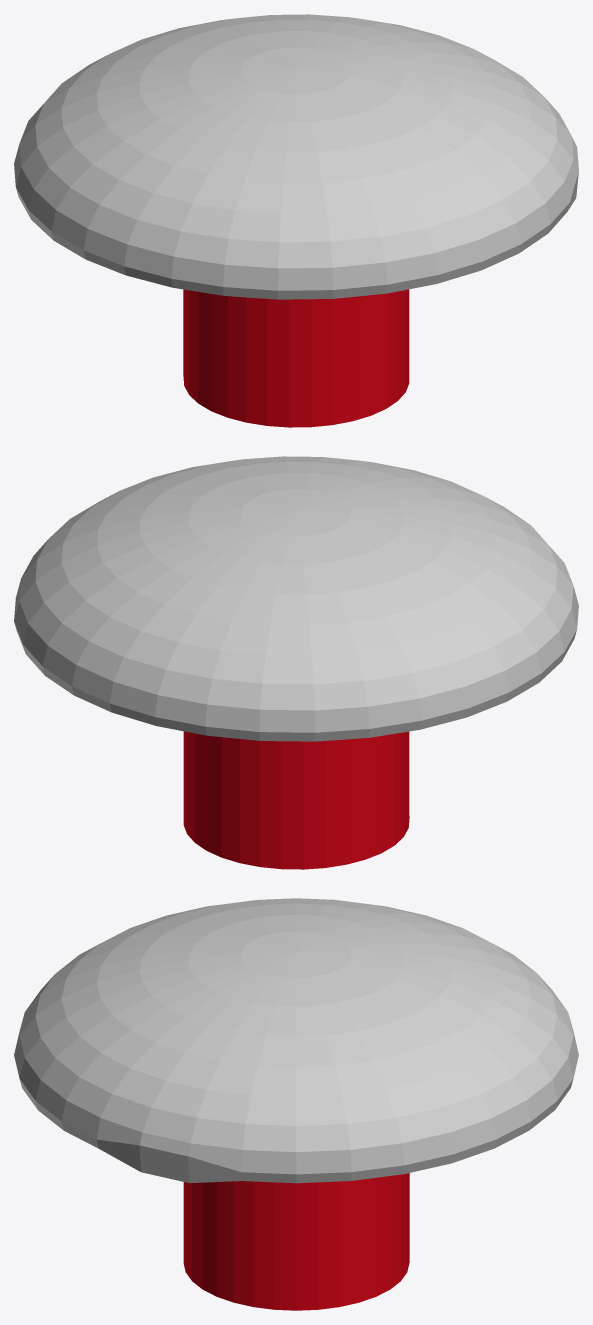
File: Button.fbx
3 views of the same model, one above another, from view 1: azimuth 30°, elevation 25°; view 2: azimuth 150°, elevation 25°; view 3: azimuth 270°, elevation 25° (orthographic).
Parts seen in each view (by area): view 1: Sphere, Cylinder; view 2: Sphere, Cylinder; view 3: Sphere, Cylinder.
Part boxes in pixels (box(x1,y1,x2,y2)): Sphere: box(14, 14, 578, 299); Cylinder: box(183, 289, 409, 427); Sphere: box(14, 456, 578, 741); Cylinder: box(183, 731, 409, 869); Sphere: box(14, 898, 578, 1183); Cylinder: box(183, 1173, 409, 1310).
Size of the model in its own units: 500 by 303 by 500.
